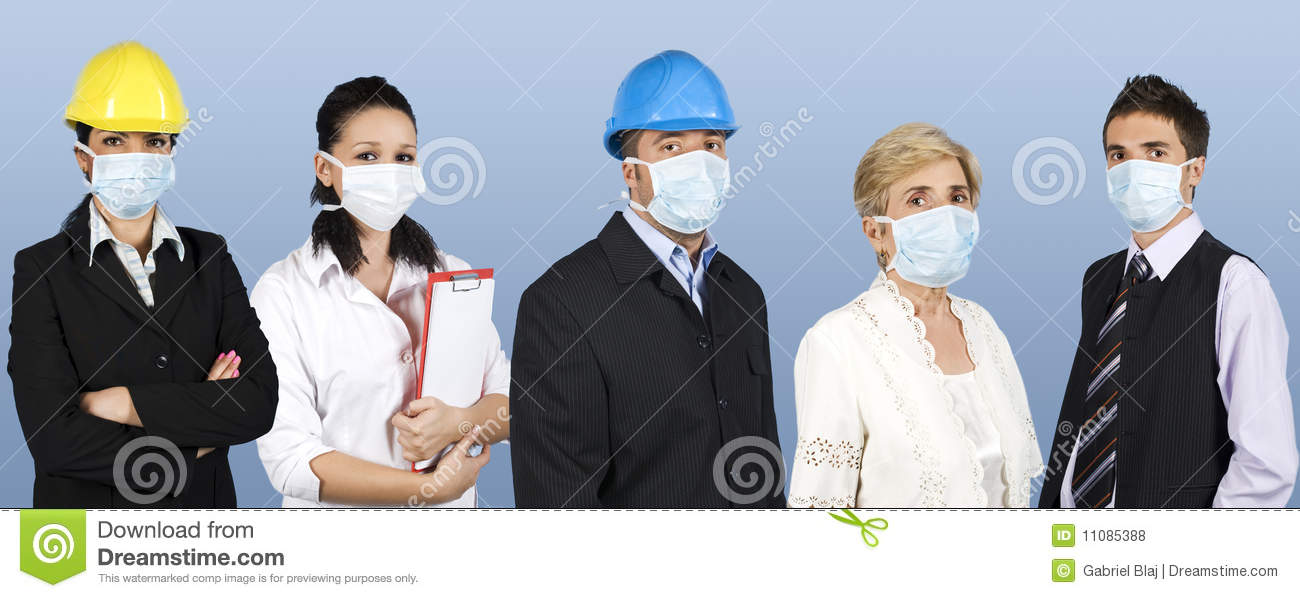mask: (887, 203, 976, 294), (649, 153, 729, 234), (87, 152, 174, 221), (336, 165, 424, 232), (1110, 160, 1189, 232)
